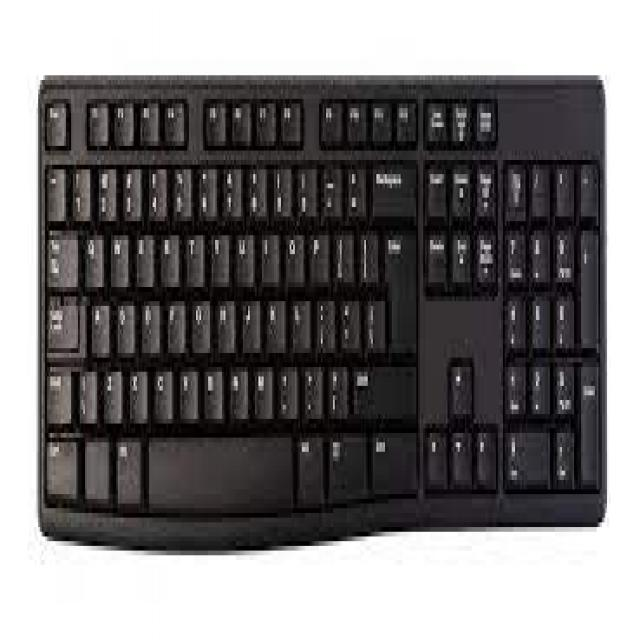others: (33, 33, 621, 565)
